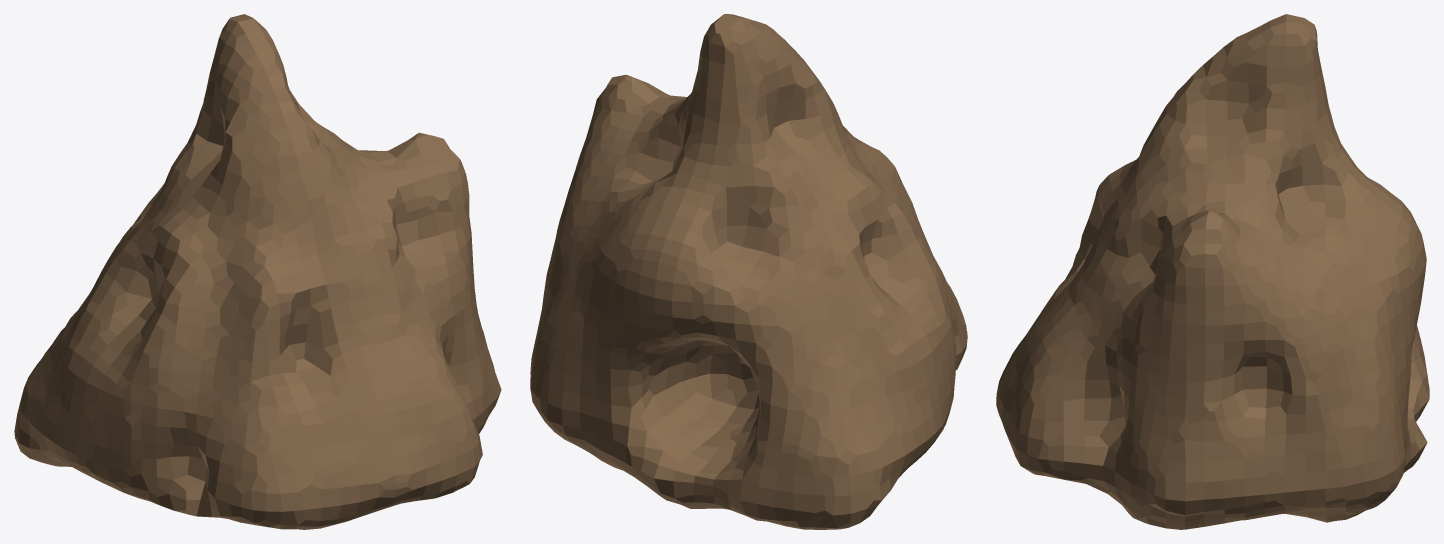
File: TermiteHill.fbx
3 views of the same model, side by side, from view 1: azimuth 30°, elevation 25°; view 2: azimuth 150°, elevation 25°; view 3: azimuth 270°, elevation 25° (orthographic). The views are drawn at different scales.
Parts seen in each view (by area): view 1: Cube; view 2: Cube; view 3: Cube.
Boxes of the visible parts, left/top/right/bottom form: Cube: left=14, top=14, right=501, bottom=529; Cube: left=530, top=14, right=967, bottom=529; Cube: left=996, top=14, right=1429, bottom=529.
Bounding box in the file's own units: 283 × 315 × 263.
